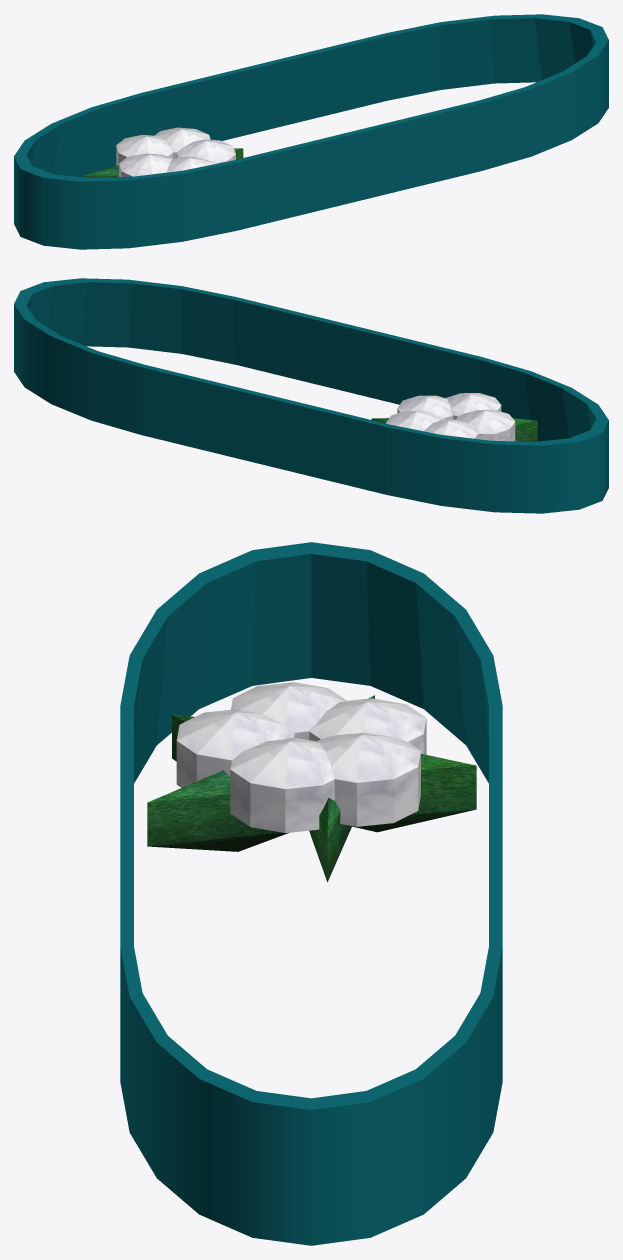
File: UI Cotton Icon.fbx
3 renders of one model, top to bottom at view 1: azimuth 30°, elevation 25°; view 2: azimuth 150°, elevation 25°; view 3: azimuth 270°, elevation 25°, orthographic. The views are drawn at different scales.
Visible parts, largest first — view 1: pCylinder6, pSphere14, pSphere13, pSphere11, pSphere15, pSphere12; view 2: pCylinder6, pSphere11, pSphere12, pSphere13, pSphere15, pSphere14, pSphere8; view 3: pCylinder6, pSphere13, pSphere15, pSphere7, pSphere12, pSphere14, pSphere10, pSphere11, pSphere6.
Boxes of the visible parts, x1,y1,x2,y2 form: pCylinder6: (14,14,608,249); pSphere14: (116,134,173,165); pSphere13: (176,139,235,163); pSphere11: (119,153,172,176); pSphere15: (155,127,210,158); pSphere12: (166,156,216,172); pCylinder6: (14,278,608,513); pSphere11: (456,409,515,441); pSphere12: (446,393,501,419); pSphere13: (397,395,453,419); pSphere15: (385,410,444,431); pSphere14: (424,419,477,438); pSphere8: (513,418,537,441); pCylinder6: (120,542,502,1245); pSphere13: (230,737,334,832); pSphere15: (317,732,420,826); pSphere7: (147,770,288,851); pSphere12: (176,709,294,787); pSphere14: (309,698,426,754); pSphere10: (352,754,476,832); pSphere11: (231,682,346,739); pSphere6: (309,797,351,882).
Size of the model in its own units: 27.71 by 3.21 by 7.89.
3 materials, 2 textured.
